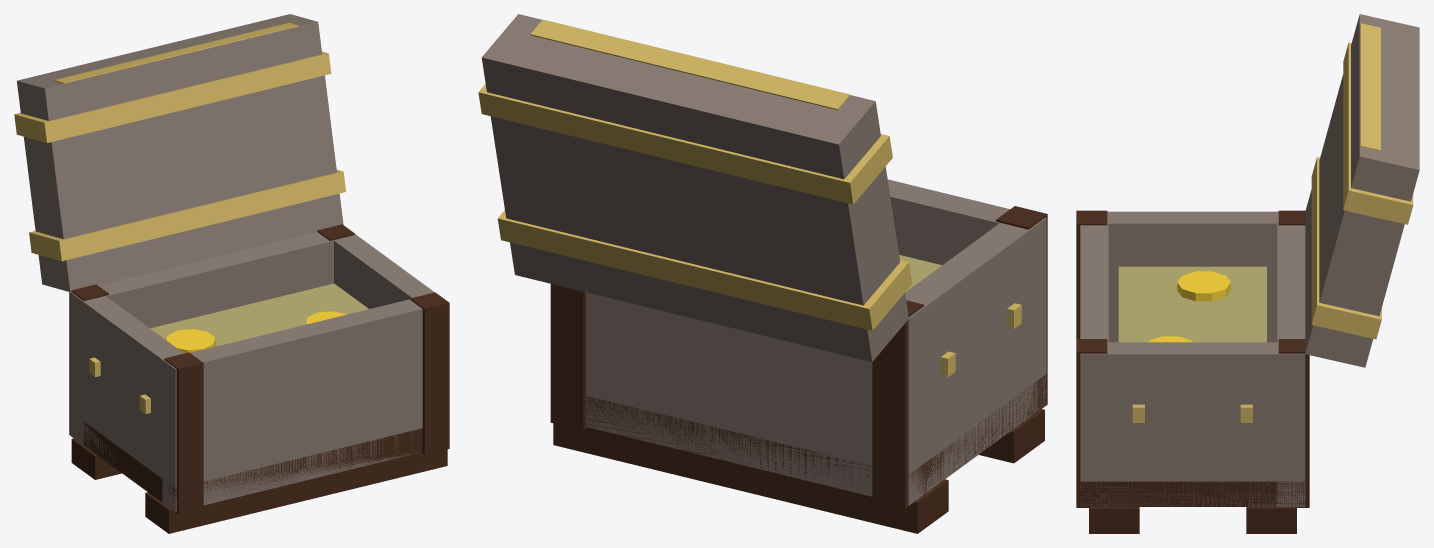
Rendered from loot_chest_crate_open.glb.
3 renders of one model, left to right at view 1: azimuth 30°, elevation 25°; view 2: azimuth 150°, elevation 25°; view 3: azimuth 270°, elevation 25°, orthographic. The views are drawn at different scales.
Visible parts, largest first — view 1: Crate_Lid.001, Crate_Body_Front.001, Crate_Body_Back.001, Crate_Body_Left.001, Crate_Lid_Band_1.001, Crate_Lid_Band_2.001, Crate_Foot_1.001, Crate_Body_Floor.001, Crate_Straw, Crate_Batten_1.001, Crate_Batten_2.001, Crate_Body_Right.001 (+4 smaller); view 2: Crate_Lid.001, Crate_Body_Back.001, Crate_Body_Left.001, Crate_Foot_2.001, Crate_Lid_Band_1.001, Crate_Lid_Band_2.001, Crate_Body_Front.001, Crate_Body_Floor.001, Crate_Batten_3.001, Crate_Lid_Lip.001, Crate_Batten_4.001, Crate_Foot_1.001 (+1 smaller); view 3: Crate_Body_Right.001, Crate_Lid.001, Crate_Body_Left.001, Crate_Straw, Crate_Body_Back.001, Crate_Body_Front.001, Crate_Body_Floor.001, Crate_Lid_Band_2.001, Crate_Lid_Band_1.001, Crate_Lid_Lip.001, Crate_Coin_1, Crate_Foot_1.001 (+5 smaller).
Part boxes in pixels (left/top/right/bottom): Crate_Lid.001: left=17, top=14, right=343, bottom=292; Crate_Body_Front.001: left=162, top=299, right=422, bottom=512; Crate_Body_Back.001: left=70, top=232, right=356, bottom=444; Crate_Body_Left.001: left=83, top=296, right=183, bottom=489; Crate_Lid_Band_1.001: left=14, top=51, right=331, bottom=142; Crate_Lid_Band_2.001: left=29, top=170, right=345, bottom=261; Crate_Foot_1.001: left=145, top=449, right=447, bottom=533; Crate_Body_Floor.001: left=83, top=422, right=422, bottom=503; Crate_Straw: left=150, top=283, right=368, bottom=346; Crate_Batten_1.001: left=164, top=352, right=203, bottom=514; Crate_Batten_2.001: left=410, top=292, right=449, bottom=454; Crate_Body_Right.001: left=334, top=235, right=434, bottom=308; Crate_Lid.001: left=481, top=14, right=908, bottom=361; Crate_Body_Back.001: left=586, top=292, right=926, bottom=505; Crate_Body_Left.001: left=905, top=223, right=1029, bottom=492; Crate_Foot_2.001: left=553, top=423, right=948, bottom=533; Crate_Lid_Band_1.001: left=478, top=84, right=892, bottom=204; Crate_Lid_Band_2.001: left=497, top=210, right=912, bottom=330; Crate_Body_Front.001: left=887, top=179, right=1046, bottom=417; Crate_Body_Floor.001: left=586, top=374, right=1046, bottom=494; Crate_Batten_3.001: left=872, top=300, right=923, bottom=508; Crate_Lid_Lip.001: left=530, top=19, right=850, bottom=110; Crate_Batten_4.001: left=550, top=284, right=587, bottom=430; Crate_Foot_1.001: left=979, top=409, right=1044, bottom=463; Crate_Body_Right.001: left=1108, top=342, right=1277, bottom=506; Crate_Lid.001: left=1305, top=14, right=1419, bottom=367; Crate_Body_Left.001: left=1108, top=211, right=1277, bottom=342; Crate_Straw: left=1118, top=266, right=1266, bottom=342; Crate_Body_Back.001: left=1277, top=211, right=1305, bottom=506; Crate_Body_Front.001: left=1080, top=211, right=1108, bottom=506; Crate_Body_Floor.001: left=1080, top=481, right=1305, bottom=506; Crate_Lid_Band_2.001: left=1311, top=157, right=1381, bottom=339; Crate_Lid_Band_1.001: left=1343, top=42, right=1413, bottom=224; Crate_Lid_Lip.001: left=1360, top=23, right=1380, bottom=151; Crate_Coin_1: left=1177, top=271, right=1230, bottom=301; Crate_Foot_1.001: left=1089, top=507, right=1139, bottom=533.
Size of the model in its own units: 0.624 by 0.7398 by 0.611.
